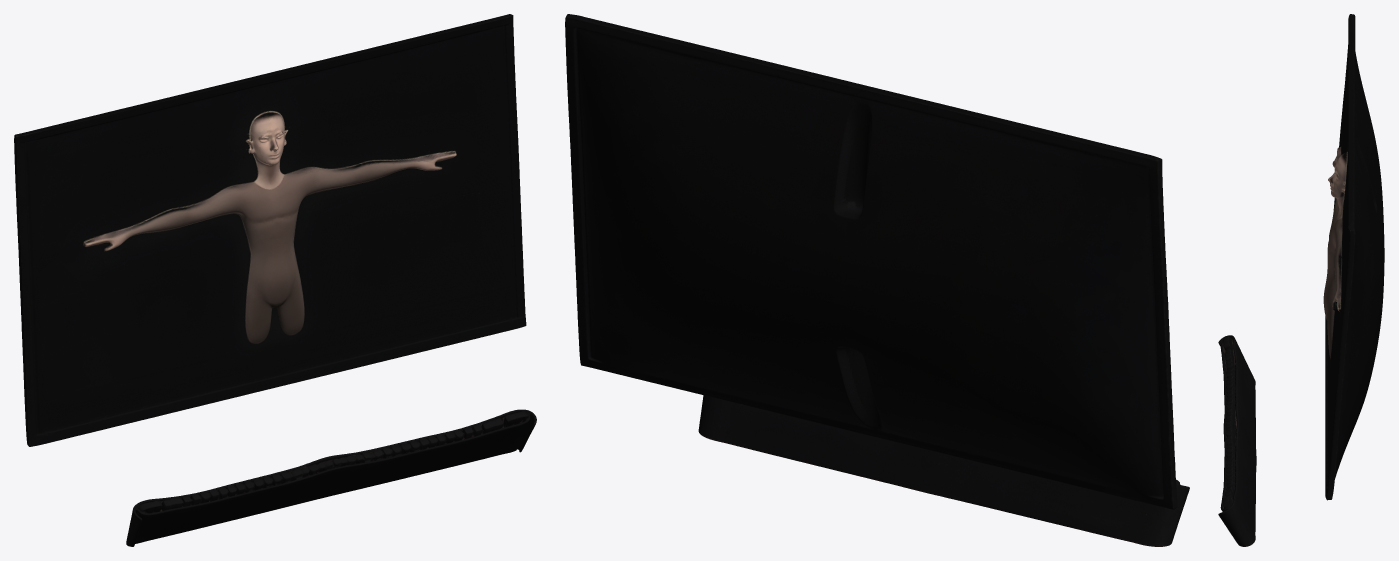
File: char_yeoja_base_tpose.glb
3 renders of one model, left to right at view 1: azimuth 30°, elevation 25°; view 2: azimuth 150°, elevation 25°; view 3: azimuth 270°, elevation 25°, orthographic. The views are drawn at different scales.
Size of the model in its own units: 1.9 by 1.38 by 0.6141.
Materials: 1 (1 with a texture image).
